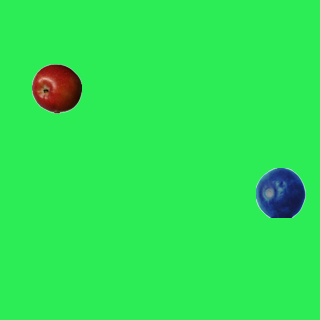Apple Braeburn: (31, 63, 81, 113)
Huckleberry: (255, 167, 305, 217)
